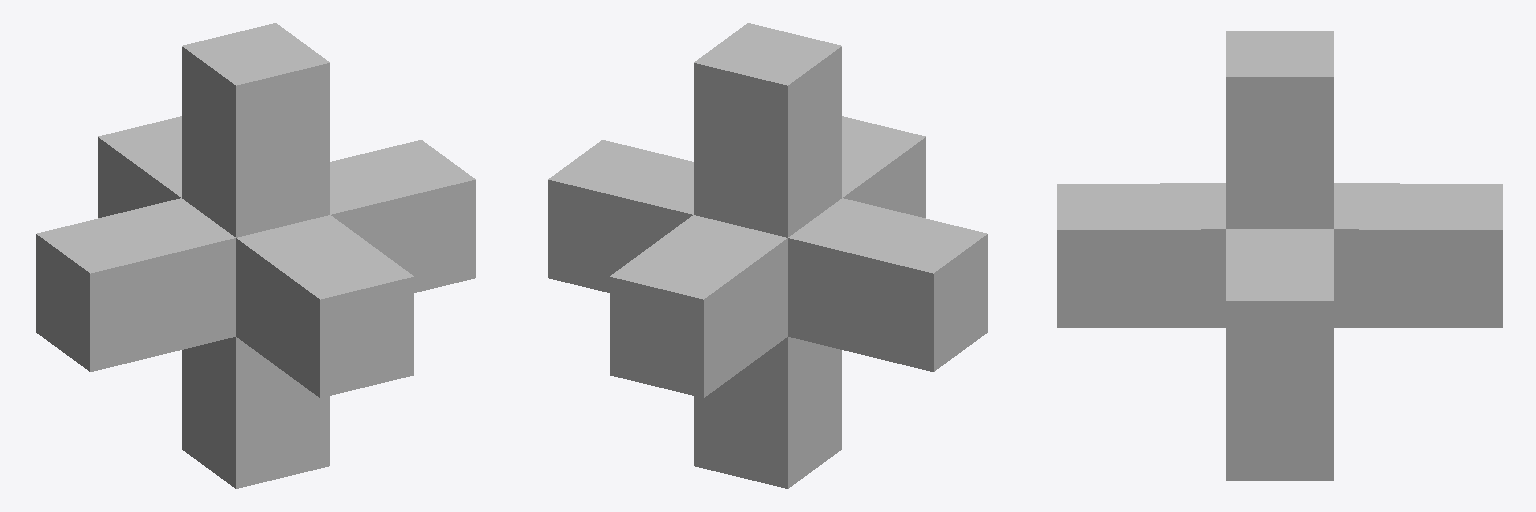
Rendered from bullet.obj.
3 views of the same model, side by side, from view 1: azimuth 30°, elevation 25°; view 2: azimuth 150°, elevation 25°; view 3: azimuth 270°, elevation 25° (orthographic).
Visible parts, largest first — view 1: Cube_Cube.001; view 2: Cube_Cube.001; view 3: Cube_Cube.001.
Part boxes in pixels (bbox=[...]): Cube_Cube.001: bbox=[36, 23, 475, 488]; Cube_Cube.001: bbox=[548, 23, 987, 488]; Cube_Cube.001: bbox=[1057, 31, 1502, 480].
Size of the model in its own units: 1.03 by 1.03 by 1.03.